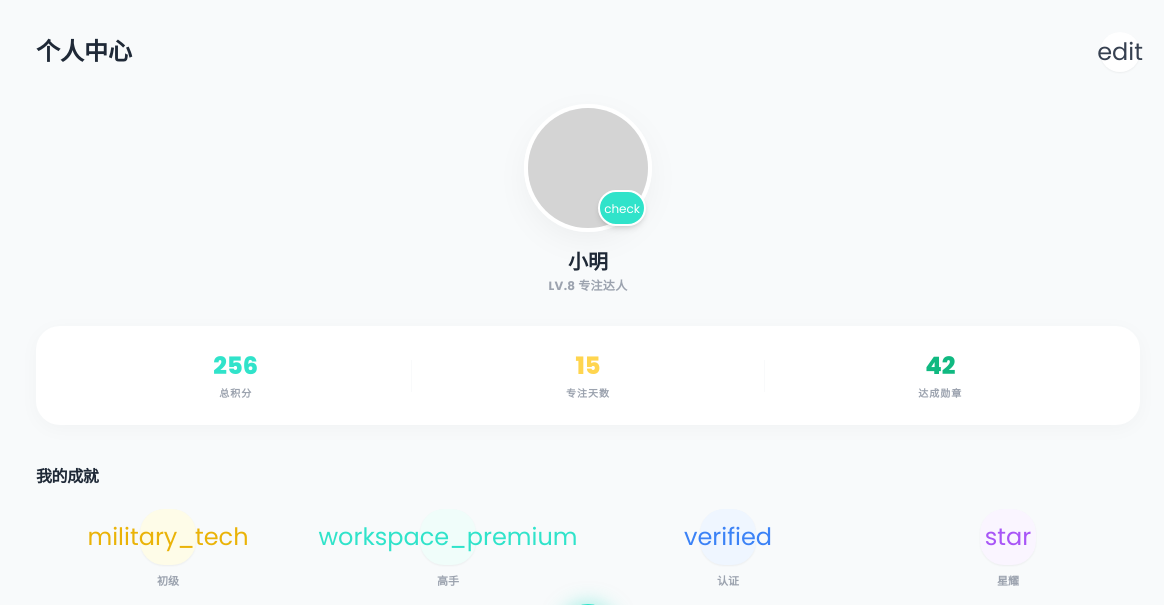
Profile Page › switches to edit view when edit button is clicked and returns to main view
This screenshot has width=1164, height=605.
Click the button "edit" at (1120,52), box [1100,32,1140,72]
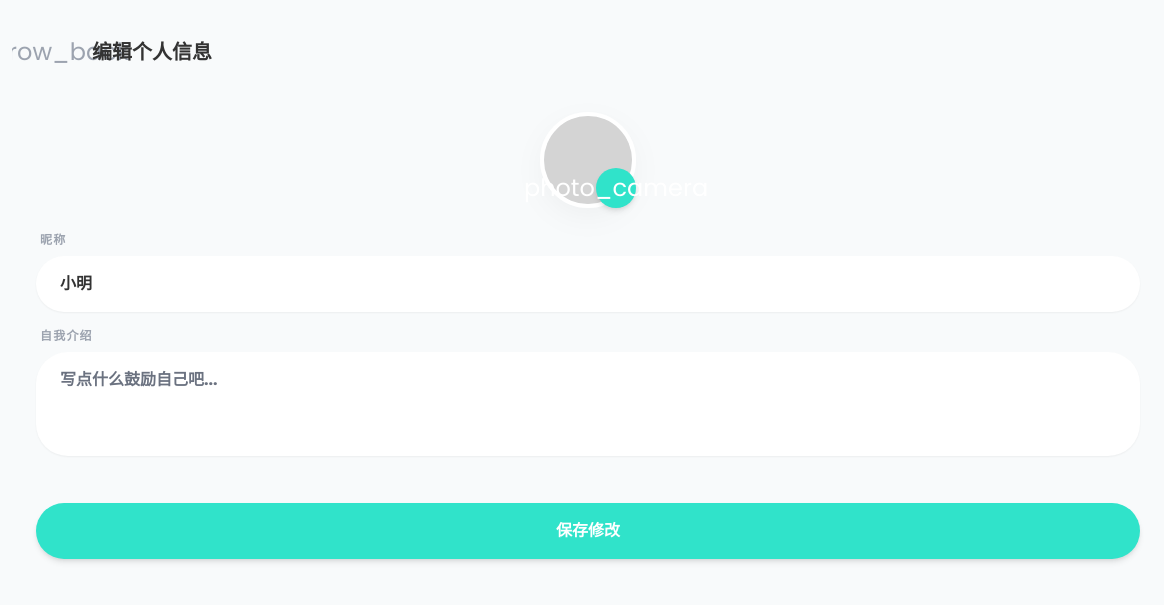
Expected: the heading "编辑个人信息" is shown, [92,38,212,66]
Expected: the field labelled "昵称" is shown, [36,256,1140,312]
Expected: the text box with placeholder "写点什么鼓励自己吧..." is shown, [36,352,1140,456]
Click the button "arrow_back" at (56,52), box [36,32,76,72]
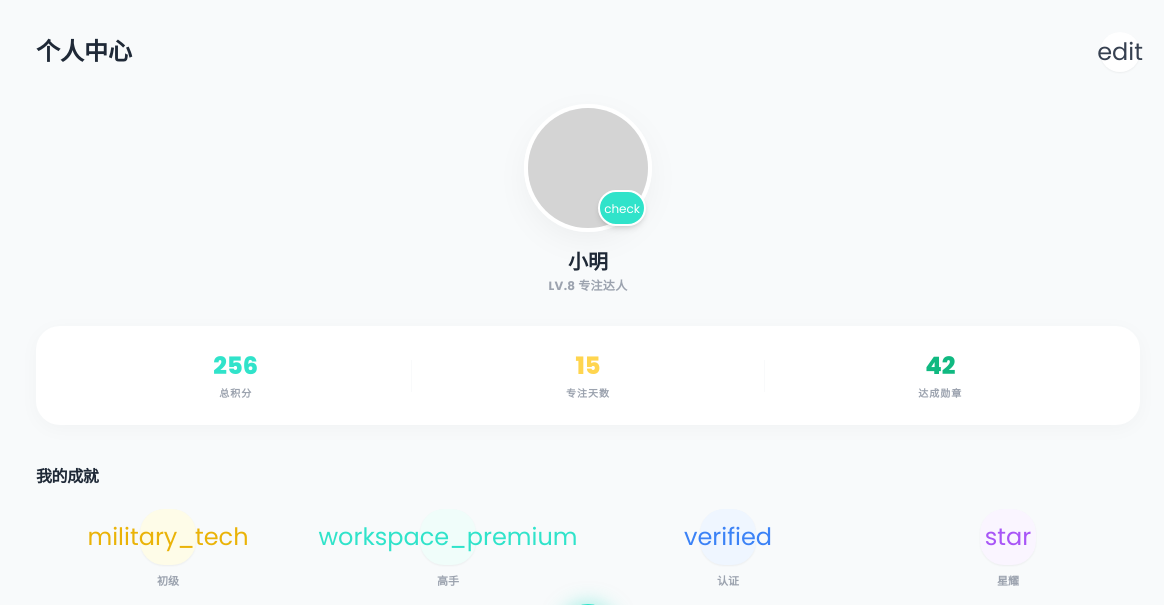
Expected: the heading "个人中心" is shown, [36,36,132,68]
